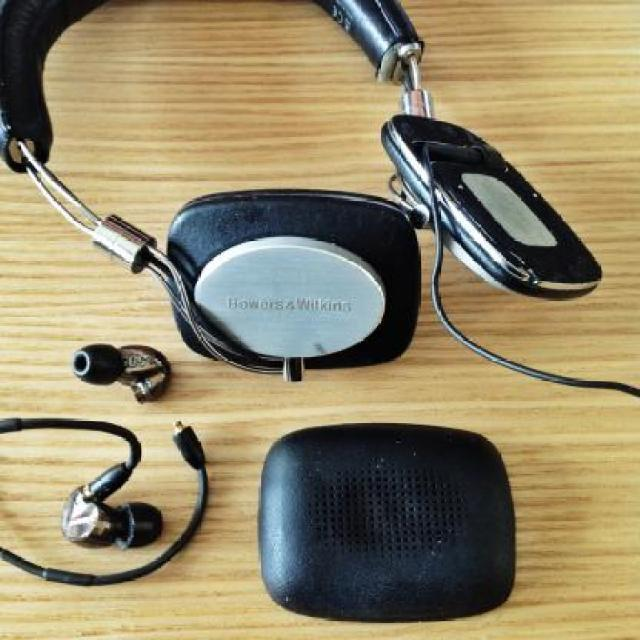earphone: (0, 0, 611, 415)
